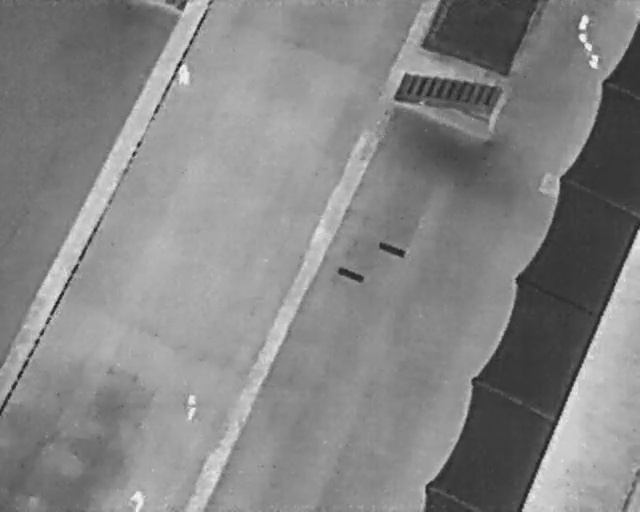Person: (128, 488, 146, 511), (185, 393, 197, 421), (176, 64, 191, 86)
